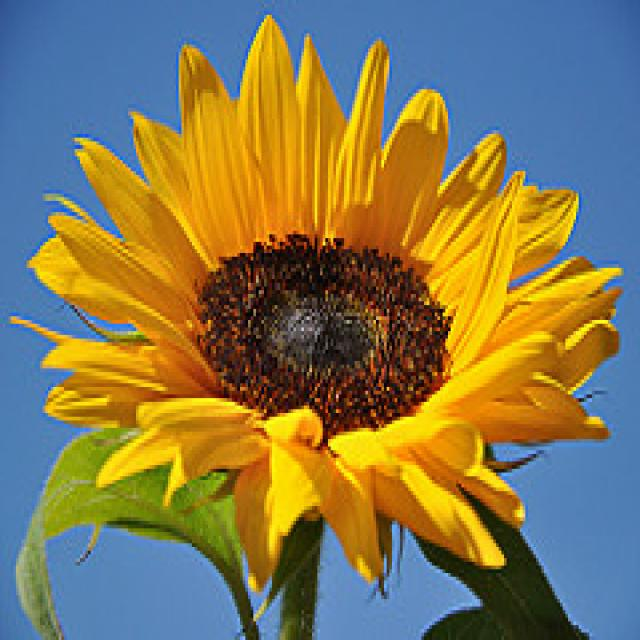sunflower: (17, 2, 631, 597)
